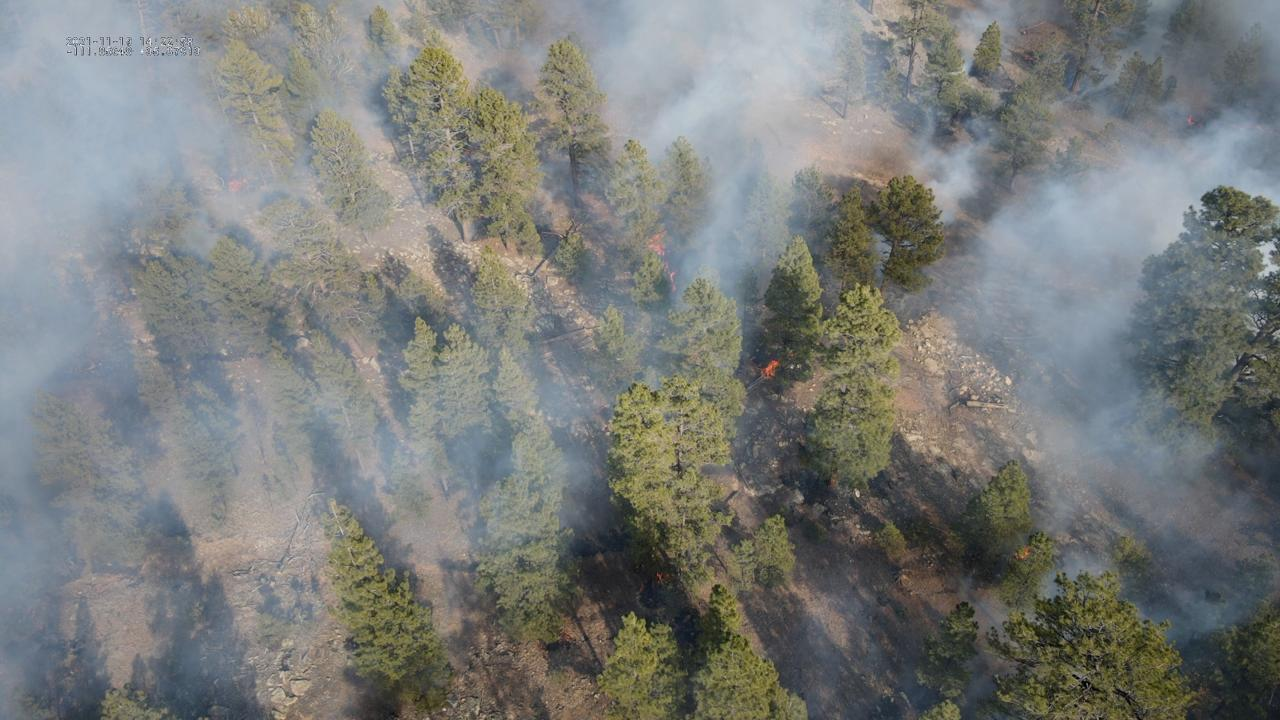fire: (646, 231, 680, 296), (758, 359, 782, 379), (225, 177, 247, 194), (1018, 544, 1029, 560), (656, 571, 666, 585), (1187, 113, 1195, 127), (637, 581, 645, 595)
smoke: (0, 0, 1280, 720)
